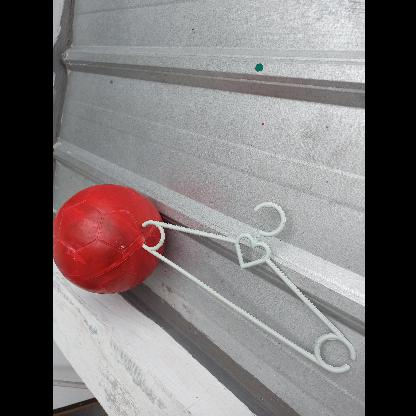red_ball: (50, 181, 162, 294)
